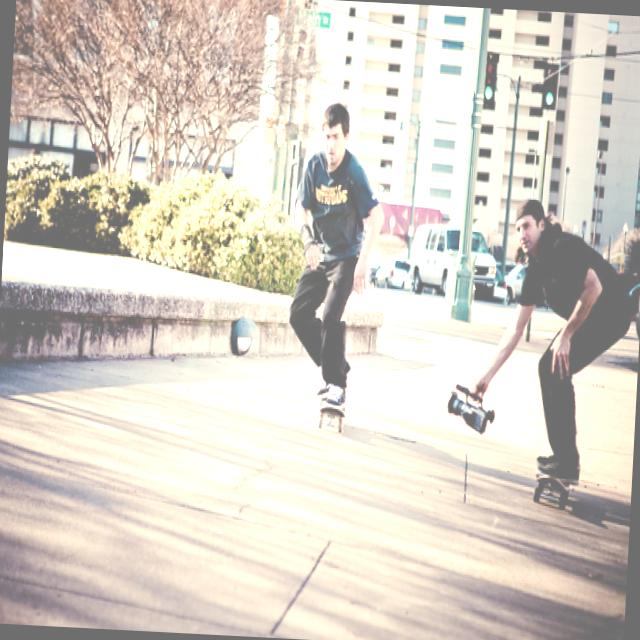Vehicle: (408, 225, 500, 298), (374, 256, 412, 290), (632, 243, 640, 373), (505, 261, 528, 305)
